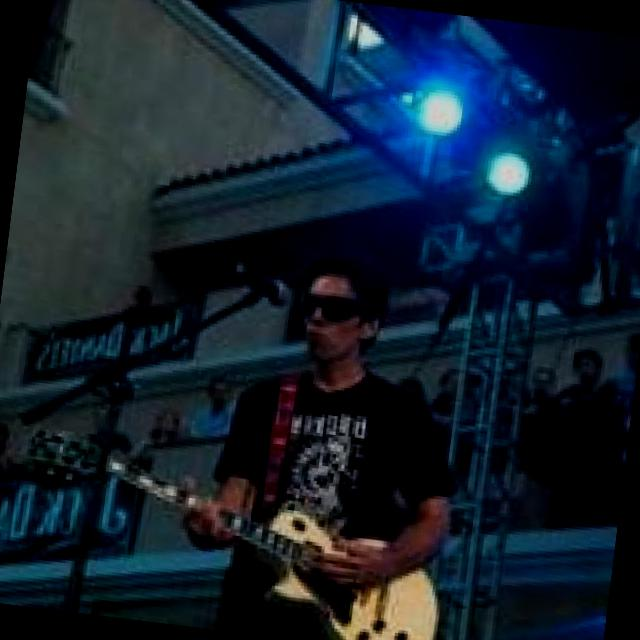no_vest: (207, 348, 474, 541)
